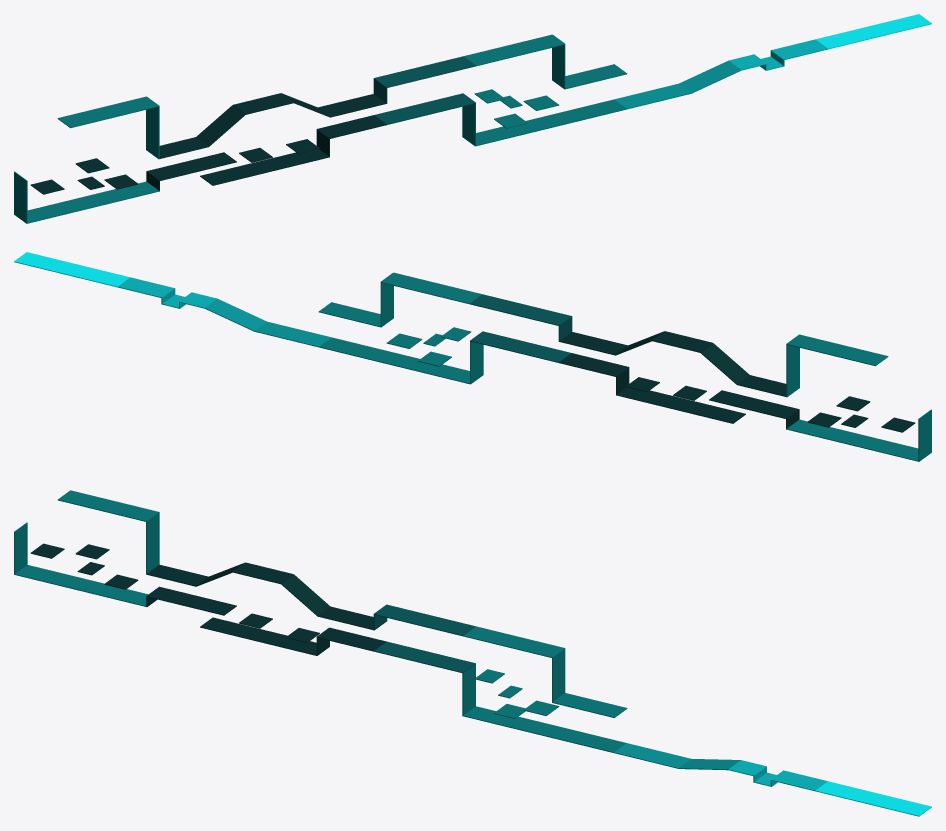
The model's file is Mapa.fbx.
The picture shows the model from 3 angles, top to bottom: view 1: azimuth 30°, elevation 25°; view 2: azimuth 150°, elevation 25°; view 3: azimuth 330°, elevation 25°; orthographic projection.
Parts seen in each view (by area): view 1: Cube__24_, Cube__27_, Cube, Cube__34_, Cube__23_, Cube__22_, Cube__21_, Cube__12_, Cube__9_, Cube__10_, Cube__29_, Cube__25_ (+9 smaller); view 2: Cube__24_, Cube__27_, Cube, Cube__34_, Cube__23_, Cube__22_, Cube__21_, Cube__12_, Cube__9_, Cube__10_, Cube__29_, Cube__25_ (+9 smaller); view 3: Cube__24_, Cube__27_, Cube, Cube__23_, Cube__21_, Cube__34_, Cube__22_, Cube__12_, Cube__9_, Cube__13_, Cube__10_, Cube__31_ (+5 smaller).
Part boxes in pixels (x1,y1,x2,y2): Cube__24_: (27,181,159,223); Cube__27_: (200,149,329,185); Cube: (816,14,931,49); Cube__34_: (57,96,159,128); Cube__23_: (464,34,565,66); Cube__22_: (375,56,476,87); Cube__21_: (374,93,475,124); Cube__12_: (476,114,564,146); Cube__9_: (614,83,691,109); Cube__10_: (552,99,626,124); Cube__29_: (196,105,245,146); Cube__25_: (317,115,386,138); Cube__24_: (786,419,918,461); Cube__27_: (616,387,745,423); Cube: (14,252,129,287); Cube__34_: (786,334,888,366); Cube__23_: (380,272,481,304); Cube__22_: (469,294,570,325); Cube__21_: (470,331,571,362); Cube__12_: (381,352,469,384); Cube__9_: (254,321,331,347); Cube__10_: (319,337,393,362); Cube__29_: (700,343,749,384); Cube__25_: (559,353,628,376); Cube__24_: (14,565,148,606); Cube__27_: (200,617,329,655); Cube: (815,781,931,816); Cube__23_: (463,626,565,658); Cube__21_: (374,641,475,673); Cube__34_: (57,490,159,521); Cube__22_: (374,604,475,636); Cube__12_: (463,706,564,737); Cube__9_: (614,743,691,768); Cube__13_: (552,693,627,717); Cube__10_: (552,728,626,752); Cube__31_: (281,574,330,616).
Size of the model in its own units: 23897 by 2972 by 585.
